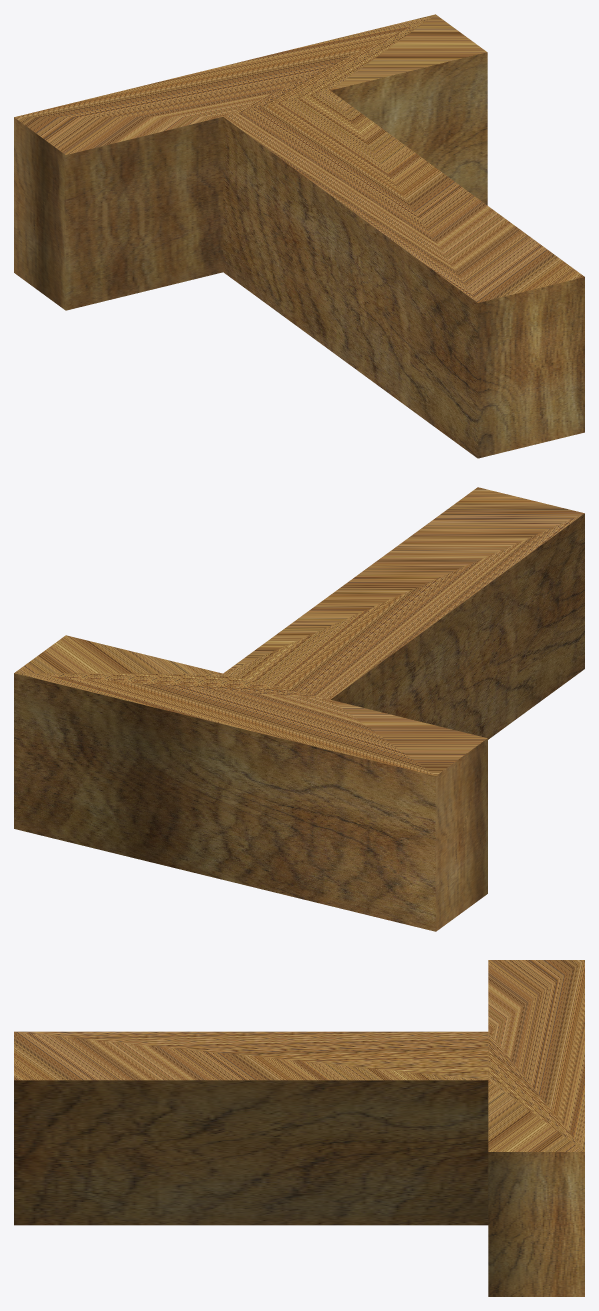
The picture shows the model from 3 angles, top to bottom: view 1: azimuth 30°, elevation 25°; view 2: azimuth 150°, elevation 25°; view 3: azimuth 270°, elevation 25°; orthographic projection. The views are drawn at different scales.
Parts seen in each view (by area): view 1: T; view 2: T; view 3: T.
Boxes of the visible parts, bbox=[...] form: T: bbox=[14, 14, 584, 458]; T: bbox=[14, 487, 584, 931]; T: bbox=[14, 960, 584, 1296].
Bounding box in the file's own units: 39.72 × 14 × 49.98.
Materials: 1 (1 with a texture image).
